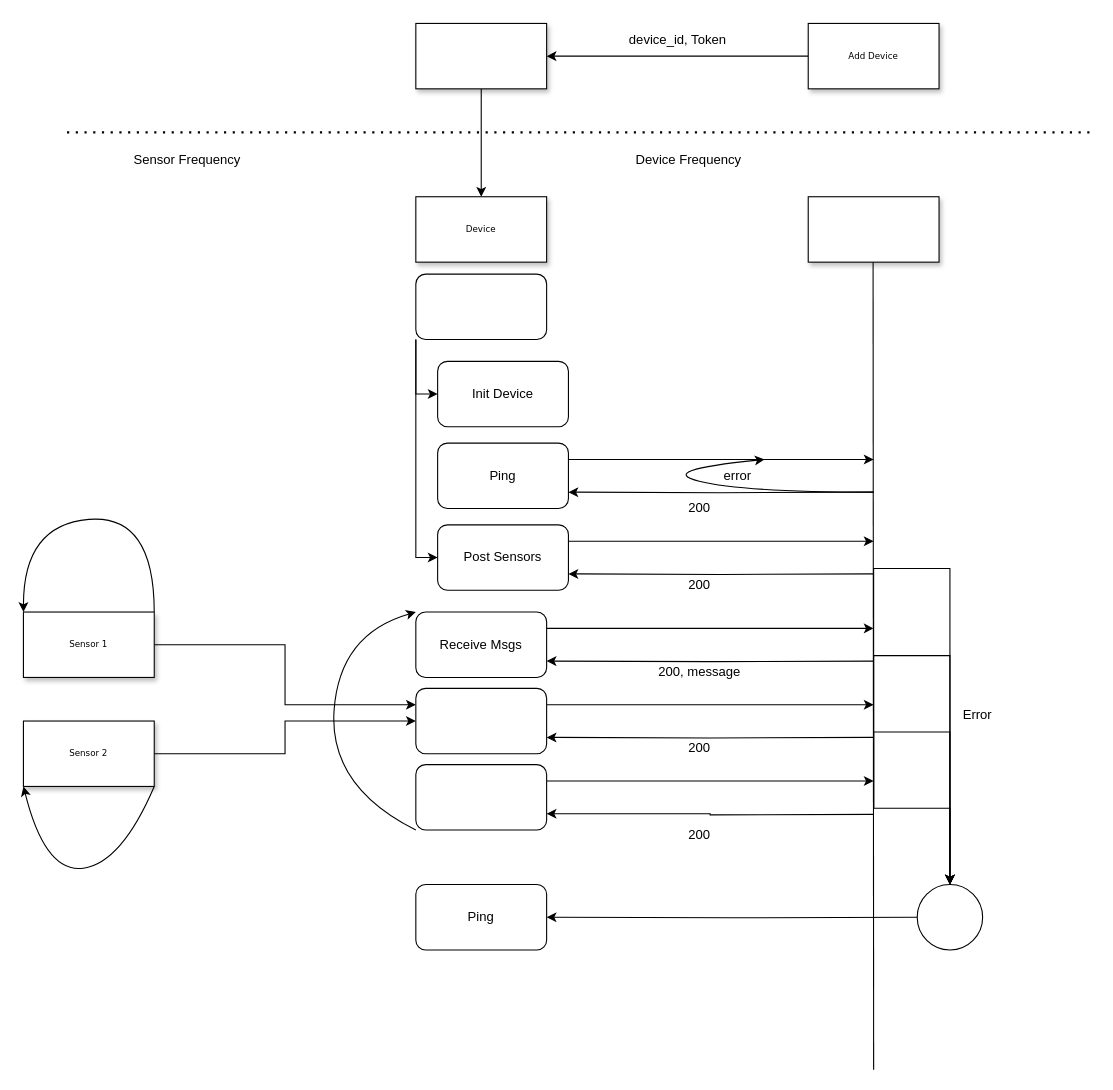
Image size: 1113x1090. Some labels were removed from this diagram. Each missing label, with the centre of its shape:
Config: [481,57]
Post sensor readings: [481,720]
Read Config: [481,306]
Sensor: [874,230]
Trigger and Resolve Alarms: [481,797]
